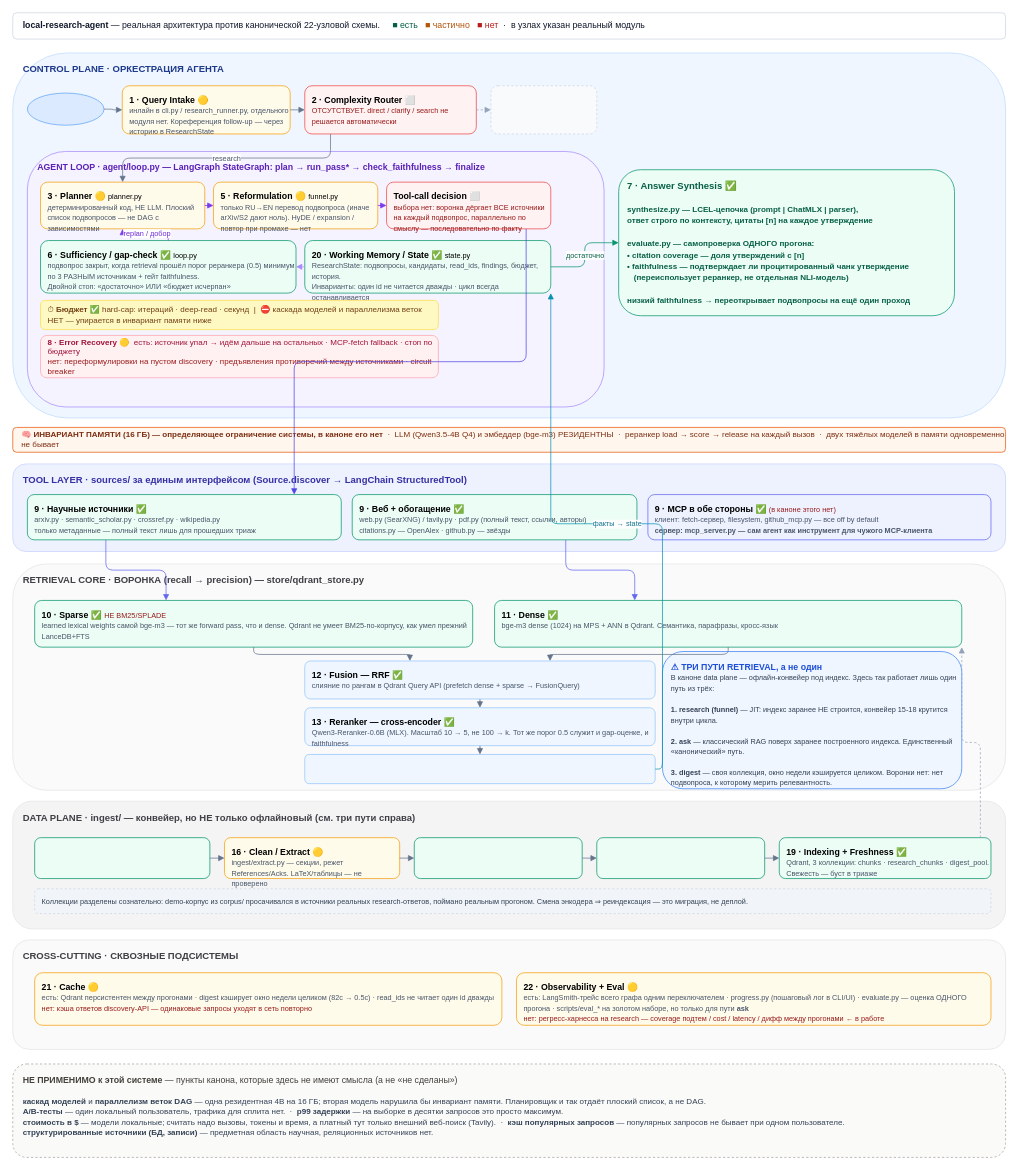
This 1018x1170 diagram has some shape labels left out. Each missing label, with the centre of its shape:
14 · Context Select + Dedup ✅ hard-cap контекста синтеза + дедуп по read_ids: (479,769)
15 · Ingestion ✅ sources/pdf.py, corpus/: (122,858)
17 · Chunking ✅ ingest/chunk.py — по границам секций: (498,858)
18 · Embedding ✅ bge-m3, dense+sparse одним проходом: (680,858)
ЗАПРОС: (65,108)
Режим выбирает человек команда cli: ask / research / digest: (543,109)
